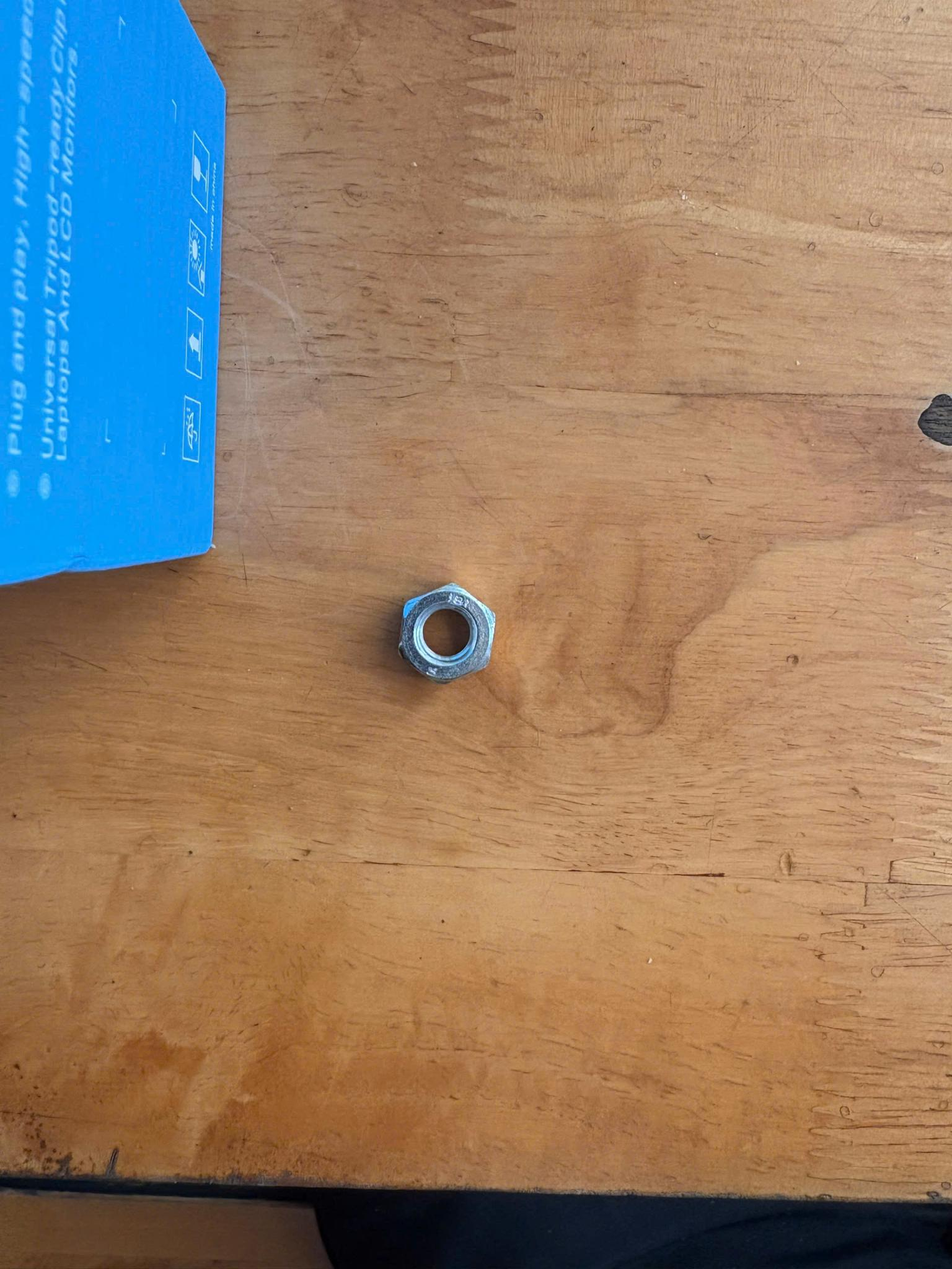nut: (377, 563, 510, 704)
